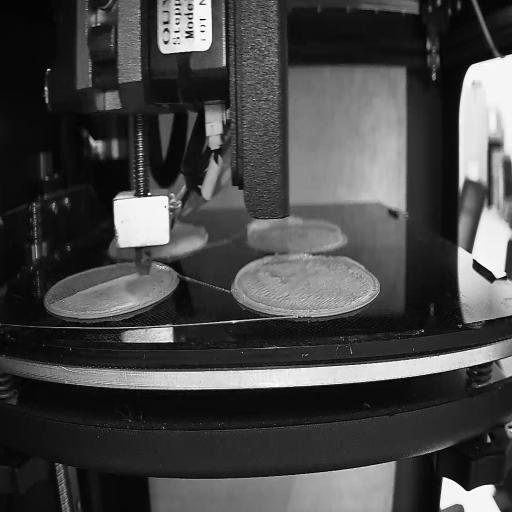over_extrusion: (235, 253, 313, 313), (76, 272, 139, 298), (244, 217, 305, 237), (308, 217, 343, 237), (335, 254, 364, 272)
